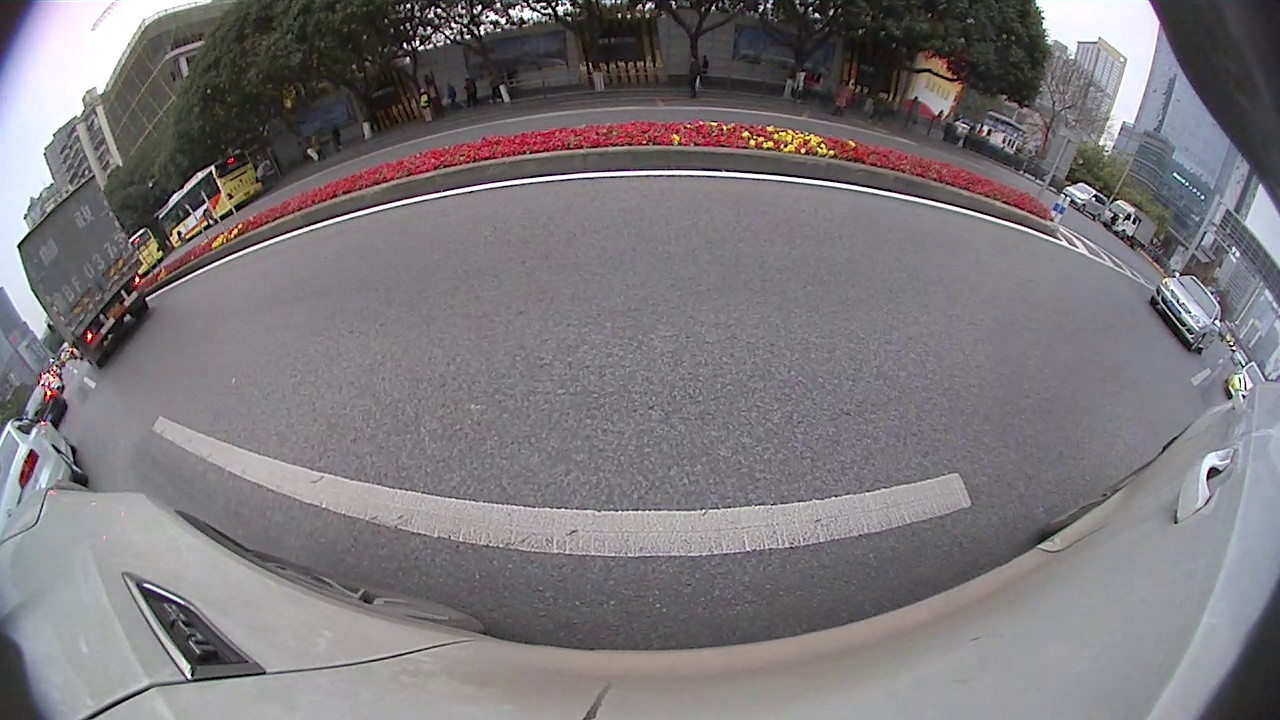bus: (154, 146, 266, 252), (126, 224, 166, 278)
car: (1, 418, 88, 521), (1148, 273, 1224, 356), (1224, 360, 1269, 410), (23, 382, 70, 429), (1062, 179, 1111, 224)
front: (1190, 331, 1203, 352)
rear: (60, 453, 85, 477), (206, 212, 216, 227)
truck: (14, 169, 150, 373), (1101, 197, 1161, 254)
